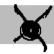not correct: (9, 3, 53, 52)
